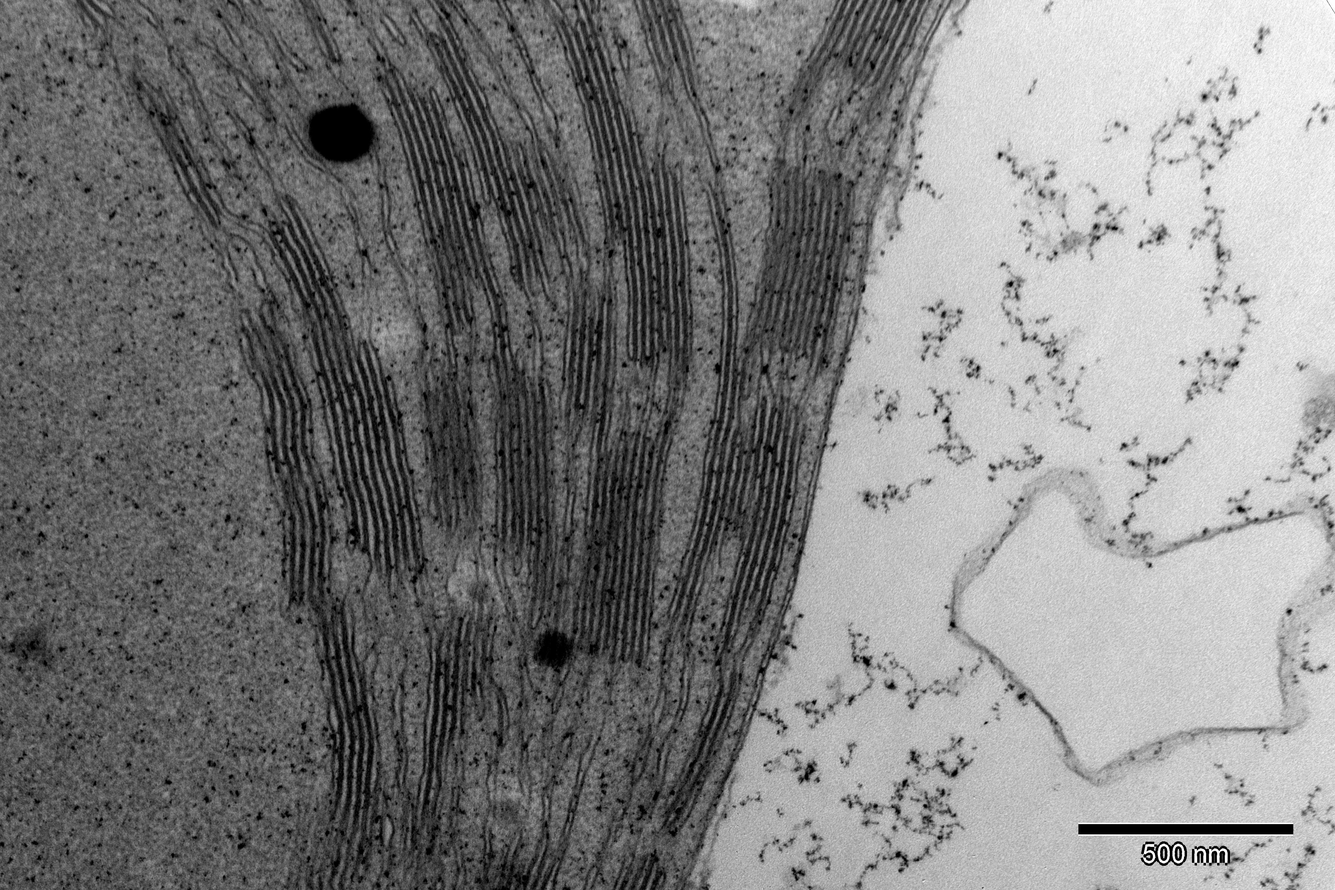granum: (254, 209, 432, 587), (544, 11, 696, 368), (420, 17, 597, 299), (662, 391, 815, 633), (227, 292, 339, 619), (373, 60, 503, 341), (297, 584, 391, 889), (564, 424, 678, 669), (482, 347, 579, 633), (740, 152, 861, 373), (778, 0, 935, 122), (414, 593, 505, 802), (128, 77, 230, 240), (656, 649, 749, 824), (410, 350, 488, 551), (555, 275, 621, 429), (625, 0, 702, 80), (476, 842, 572, 889), (397, 791, 451, 859), (710, 367, 765, 426), (609, 847, 671, 890), (60, 0, 123, 39)
